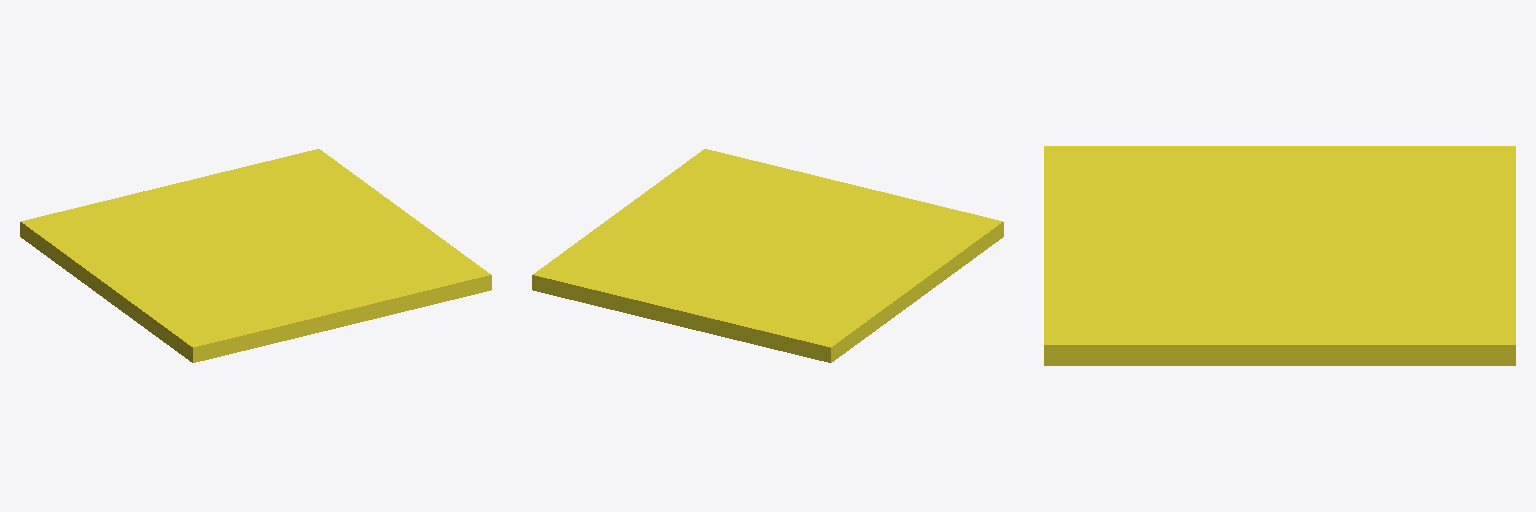
robot.urdf — myworkcell:
<?xml version="1.0" ?>
<!-- =================================================================================== -->
<!-- |    This document was autogenerated by xacro from [local-path]/dev_ws/install/ur_description/share/ur_description/urdf/workcell.urdf.xacro | -->
<!-- |    EDITING THIS FILE BY HAND IS NOT RECOMMENDED                                 | -->
<!-- =================================================================================== -->
<robot name="myworkcell">
  <!-- measured from model -->
  <!--property name="shoulder_height" value="0.089159" /-->
  <!--property name="shoulder_offset" value="0.13585" /-->
  <!-- shoulder_offset - elbow_offset + wrist_1_length = 0.10915 -->
  <!--property name="upper_arm_length" value="0.42500" /-->
  <!--property name="elbow_offset" value="0.1197" /-->
  <!-- CAD measured -->
  <!--property name="forearm_length" value="0.39225" /-->
  <!--property name="wrist_1_length" value="0.093" /-->
  <!-- CAD measured -->
  <!--property name="wrist_2_length" value="0.09465" /-->
  <!-- In CAD this distance is 0.930, but in the spec it is 0.09465 -->
  <!--property name="wrist_3_length" value="0.0823" /-->
  <!-- manually measured -->
  <link name="base_link">
    <visual>
      <geometry>
        <mesh filename="package://ur_description/meshes/ur5/visual/base.dae"/>
      </geometry>
      <material name="LightGrey">
        <color rgba="0.7 0.7 0.7 1.0"/>
      </material>
    </visual>
    <collision>
      <geometry>
        <mesh filename="package://ur_description/meshes/ur5/collision/base.stl"/>
      </geometry>
    </collision>
    <inertial>
      <mass value="4.0"/>
      <origin rpy="0 0 0" xyz="0.0 0.0 0.0"/>
      <inertia ixx="0.00443333156" ixy="0.0" ixz="0.0" iyy="0.00443333156" iyz="0.0" izz="0.0072"/>
    </inertial>
  </link>
  <joint name="shoulder_pan_joint" type="revolute">
    <parent link="base_link"/>
    <child link="shoulder_link"/>
    <origin rpy="0.0 0.0 0.0" xyz="0.0 0.0 0.089159"/>
    <axis xyz="0 0 1"/>
    <limit effort="150.0" lower="-3.141592653589793" upper="3.141592653589793" velocity="3.15"/>
    <dynamics damping="0.0" friction="0.0"/>
  </joint>
  <link name="shoulder_link">
    <visual>
      <geometry>
        <mesh filename="package://ur_description/meshes/ur5/visual/shoulder.dae"/>
      </geometry>
      <material name="LightGrey">
        <color rgba="0.7 0.7 0.7 1.0"/>
      </material>
    </visual>
    <collision>
      <geometry>
        <mesh filename="package://ur_description/meshes/ur5/collision/shoulder.stl"/>
      </geometry>
    </collision>
    <inertial>
      <mass value="3.7"/>
      <origin rpy="0 0 0" xyz="0.0 0.0 0.0"/>
      <inertia ixx="0.010267495893" ixy="0.0" ixz="0.0" iyy="0.010267495893" iyz="0.0" izz="0.00666"/>
    </inertial>
  </link>
  <joint name="shoulder_lift_joint" type="revolute">
    <parent link="shoulder_link"/>
    <child link="upper_arm_link"/>
    <origin rpy="0.0 1.5707963267948966 0.0" xyz="0.0 0.13585 0.0"/>
    <axis xyz="0 1 0"/>
    <limit effort="150.0" lower="-3.141592653589793" upper="3.141592653589793" velocity="3.15"/>
    <dynamics damping="0.0" friction="0.0"/>
  </joint>
  <link name="upper_arm_link">
    <visual>
      <geometry>
        <mesh filename="package://ur_description/meshes/ur5/visual/upperarm.dae"/>
      </geometry>
      <material name="LightGrey">
        <color rgba="0.7 0.7 0.7 1.0"/>
      </material>
    </visual>
    <collision>
      <geometry>
        <mesh filename="package://ur_description/meshes/ur5/collision/upperarm.stl"/>
      </geometry>
    </collision>
    <inertial>
      <mass value="8.393"/>
      <origin rpy="0 0 0" xyz="0.0 0.0 0.28"/>
      <inertia ixx="0.22689067591036005" ixy="0.0" ixz="0.0" iyy="0.22689067591036005" iyz="0.0" izz="0.0151074"/>
    </inertial>
  </link>
  <joint name="elbow_joint" type="revolute">
    <parent link="upper_arm_link"/>
    <child link="forearm_link"/>
    <origin rpy="0.0 0.0 0.0" xyz="0.0 -0.1197 0.425"/>
    <axis xyz="0 1 0"/>
    <limit effort="150.0" lower="-3.141592653589793" upper="3.141592653589793" velocity="3.15"/>
    <dynamics damping="0.0" friction="0.0"/>
  </joint>
  <link name="forearm_link">
    <visual>
      <geometry>
        <mesh filename="package://ur_description/meshes/ur5/visual/forearm.dae"/>
      </geometry>
      <material name="LightGrey">
        <color rgba="0.7 0.7 0.7 1.0"/>
      </material>
    </visual>
    <collision>
      <geometry>
        <mesh filename="package://ur_description/meshes/ur5/collision/forearm.stl"/>
      </geometry>
    </collision>
    <inertial>
      <mass value="2.275"/>
      <origin rpy="0 0 0" xyz="0.0 0.0 0.196125"/>
      <inertia ixx="0.03121679102890359" ixy="0.0" ixz="0.0" iyy="0.03121679102890359" iyz="0.0" izz="0.004095"/>
    </inertial>
  </link>
  <joint name="wrist_1_joint" type="revolute">
    <parent link="forearm_link"/>
    <child link="wrist_1_link"/>
    <origin rpy="0.0 1.5707963267948966 0.0" xyz="0.0 0.0 0.39225"/>
    <axis xyz="0 1 0"/>
    <limit effort="28.0" lower="-3.141592653589793" upper="3.141592653589793" velocity="3.2"/>
    <dynamics damping="0.0" friction="0.0"/>
  </joint>
  <link name="wrist_1_link">
    <visual>
      <geometry>
        <mesh filename="package://ur_description/meshes/ur5/visual/wrist1.dae"/>
      </geometry>
      <material name="LightGrey">
        <color rgba="0.7 0.7 0.7 1.0"/>
      </material>
    </visual>
    <collision>
      <geometry>
        <mesh filename="package://ur_description/meshes/ur5/collision/wrist1.stl"/>
      </geometry>
    </collision>
    <inertial>
      <mass value="1.219"/>
      <origin rpy="0 0 0" xyz="0.0 0.093 0.0"/>
      <inertia ixx="0.0025598989760400002" ixy="0.0" ixz="0.0" iyy="0.0025598989760400002" iyz="0.0" izz="0.0021942"/>
    </inertial>
  </link>
  <joint name="wrist_2_joint" type="revolute">
    <parent link="wrist_1_link"/>
    <child link="wrist_2_link"/>
    <origin rpy="0.0 0.0 0.0" xyz="0.0 0.093 0.0"/>
    <axis xyz="0 0 1"/>
    <limit effort="28.0" lower="-3.141592653589793" upper="3.141592653589793" velocity="3.2"/>
    <dynamics damping="0.0" friction="0.0"/>
  </joint>
  <link name="wrist_2_link">
    <visual>
      <geometry>
        <mesh filename="package://ur_description/meshes/ur5/visual/wrist2.dae"/>
      </geometry>
      <material name="LightGrey">
        <color rgba="0.7 0.7 0.7 1.0"/>
      </material>
    </visual>
    <collision>
      <geometry>
        <mesh filename="package://ur_description/meshes/ur5/collision/wrist2.stl"/>
      </geometry>
    </collision>
    <inertial>
      <mass value="1.219"/>
      <origin rpy="0 0 0" xyz="0.0 0.0 0.09465"/>
      <inertia ixx="0.0025598989760400002" ixy="0.0" ixz="0.0" iyy="0.0025598989760400002" iyz="0.0" izz="0.0021942"/>
    </inertial>
  </link>
  <joint name="wrist_3_joint" type="revolute">
    <parent link="wrist_2_link"/>
    <child link="wrist_3_link"/>
    <origin rpy="0.0 0.0 0.0" xyz="0.0 0.0 0.09465"/>
    <axis xyz="0 1 0"/>
    <limit effort="28.0" lower="-3.141592653589793" upper="3.141592653589793" velocity="3.2"/>
    <dynamics damping="0.0" friction="0.0"/>
  </joint>
  <link name="wrist_3_link">
    <visual>
      <geometry>
        <mesh filename="package://ur_description/meshes/ur5/visual/wrist3.dae"/>
      </geometry>
      <material name="LightGrey">
        <color rgba="0.7 0.7 0.7 1.0"/>
      </material>
    </visual>
    <collision>
      <geometry>
        <mesh filename="package://ur_description/meshes/ur5/collision/wrist3.stl"/>
      </geometry>
    </collision>
    <inertial>
      <mass value="0.1879"/>
      <origin rpy="1.5707963267948966 0 0" xyz="0.0 0.06505 0.0"/>
      <inertia ixx="8.469589112163e-05" ixy="0.0" ixz="0.0" iyy="8.469589112163e-05" iyz="0.0" izz="0.0001321171875"/>
    </inertial>
  </link>
  <joint name="ee_fixed_joint" type="fixed">
    <parent link="wrist_3_link"/>
    <child link="ee_link"/>
    <origin rpy="0.0 0.0 1.5707963267948966" xyz="0.0 0.0823 0.0"/>
  </joint>
  <link name="ee_link">
    <collision>
      <geometry>
        <box size="0.01 0.01 0.01"/>
      </geometry>
      <origin rpy="0 0 0" xyz="-0.01 0 0"/>
    </collision>
  </link>
  <transmission name="shoulder_pan_trans">
    <type>transmission_interface/SimpleTransmission</type>
    <joint name="shoulder_pan_joint">
      <hardwareInterface>hardware_interface/PositionJointInterface</hardwareInterface>
    </joint>
    <actuator name="shoulder_pan_motor">
      <mechanicalReduction>1</mechanicalReduction>
    </actuator>
  </transmission>
  <transmission name="shoulder_lift_trans">
    <type>transmission_interface/SimpleTransmission</type>
    <joint name="shoulder_lift_joint">
      <hardwareInterface>hardware_interface/PositionJointInterface</hardwareInterface>
    </joint>
    <actuator name="shoulder_lift_motor">
      <mechanicalReduction>1</mechanicalReduction>
    </actuator>
  </transmission>
  <transmission name="elbow_trans">
    <type>transmission_interface/SimpleTransmission</type>
    <joint name="elbow_joint">
      <hardwareInterface>hardware_interface/PositionJointInterface</hardwareInterface>
    </joint>
    <actuator name="elbow_motor">
      <mechanicalReduction>1</mechanicalReduction>
    </actuator>
  </transmission>
  <transmission name="wrist_1_trans">
    <type>transmission_interface/SimpleTransmission</type>
    <joint name="wrist_1_joint">
      <hardwareInterface>hardware_interface/PositionJointInterface</hardwareInterface>
    </joint>
    <actuator name="wrist_1_motor">
      <mechanicalReduction>1</mechanicalReduction>
    </actuator>
  </transmission>
  <transmission name="wrist_2_trans">
    <type>transmission_interface/SimpleTransmission</type>
    <joint name="wrist_2_joint">
      <hardwareInterface>hardware_interface/PositionJointInterface</hardwareInterface>
    </joint>
    <actuator name="wrist_2_motor">
      <mechanicalReduction>1</mechanicalReduction>
    </actuator>
  </transmission>
  <transmission name="wrist_3_trans">
    <type>transmission_interface/SimpleTransmission</type>
    <joint name="wrist_3_joint">
      <hardwareInterface>hardware_interface/PositionJointInterface</hardwareInterface>
    </joint>
    <actuator name="wrist_3_motor">
      <mechanicalReduction>1</mechanicalReduction>
    </actuator>
  </transmission>
  <gazebo reference="shoulder_link">
    <selfCollide>true</selfCollide>
  </gazebo>
  <gazebo reference="upper_arm_link">
    <selfCollide>true</selfCollide>
  </gazebo>
  <gazebo reference="forearm_link">
    <selfCollide>true</selfCollide>
  </gazebo>
  <gazebo reference="wrist_1_link">
    <selfCollide>true</selfCollide>
  </gazebo>
  <gazebo reference="wrist_3_link">
    <selfCollide>true</selfCollide>
  </gazebo>
  <gazebo reference="wrist_2_link">
    <selfCollide>true</selfCollide>
  </gazebo>
  <gazebo reference="ee_link">
    <selfCollide>true</selfCollide>
  </gazebo>
  <!-- ROS base_link to UR 'Base' Coordinates transform -->
  <link name="base"/>
  <joint name="base_link-base_fixed_joint" type="fixed">
    <!-- NOTE: this rotation is only needed as long as base_link itself is
                 not corrected wrt the real robot (ie: rotated over 180
                 degrees)
      -->
    <origin rpy="0 0 -3.141592653589793" xyz="0 0 0"/>
    <parent link="base_link"/>
    <child link="base"/>
  </joint>
  <!-- Frame coincident with all-zeros TCP on UR controller -->
  <link name="tool0"/>
  <joint name="wrist_3_link-tool0_fixed_joint" type="fixed">
    <origin rpy="-1.5707963267948966 0 0" xyz="0 0.0823 0"/>
    <parent link="wrist_3_link"/>
    <child link="tool0"/>
  </joint>
  <joint name="table_to_robot" type="fixed">
    <parent link="table"/>
    <child link="base_link"/>
    <origin rpy="0 0 0" xyz="0 0 0"/>
  </joint>
  <link name="world"/>
  <link name="table">
    <visual>
      <geometry>
        <box size="1.0 1.0 0.05"/>
      </geometry>
    </visual>
    <collision>
      <geometry>
        <box size="1.0 1.0 0.05"/>
      </geometry>
    </collision>
  </link>
  <link name="camera_frame"/>
  <joint name="world_to_table" type="fixed">
    <parent link="world"/>
    <child link="table"/>
    <origin rpy="0 0 0" xyz="0 0 0.5"/>
  </joint>
  <joint name="world_to_camera" type="fixed">
    <parent link="world"/>
    <child link="camera_frame"/>
    <origin rpy="0 3.14159 0" xyz="-0.25 -0.5 1.25"/>
  </joint>
</robot>

--- Facts derived from the render (not from the file) ---
The picture shows the robot from 3 angles, left to right: view 1: azimuth 30°, elevation 25°; view 2: azimuth 150°, elevation 25°; view 3: azimuth 270°, elevation 25°; orthographic projection.
Robot: myworkcell — 13 links, 12 joints (6 revolute, 6 fixed); root link world; default pose: all joints at 0.
Links seen in each view (by area): view 1: table; view 2: table; view 3: table.
Boxes of the visible links, x1,y1,x2,y2 form: table: (20, 149, 491, 362); table: (532, 149, 1003, 362); table: (1044, 146, 1515, 365).
Bounding box of the posed robot: 1 × 1 × 0.05 m (x, y, z).
0 mesh visuals loaded from 7 distinct referenced files (none loaded); not drawn: 7 (reference not matched to a file when rendering).